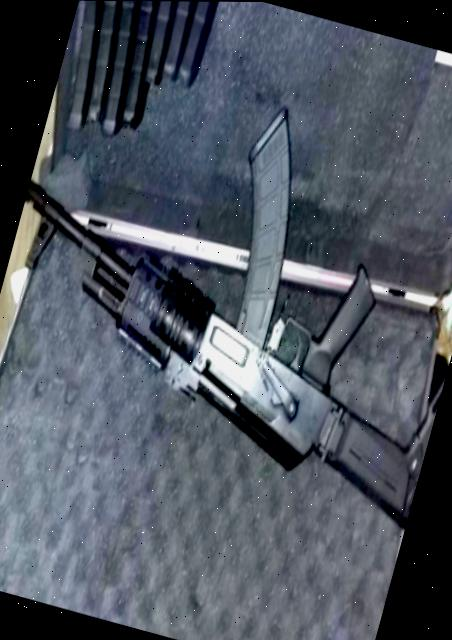rifle: (0, 49, 452, 543)
